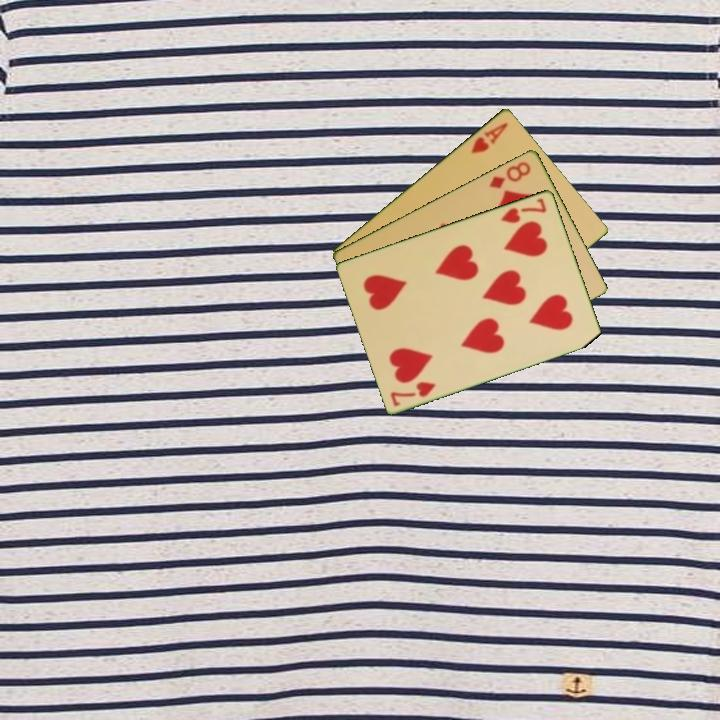7h: (497, 194, 549, 226), (387, 378, 439, 409)
8d: (486, 157, 534, 191)
Ah: (467, 118, 511, 156)
